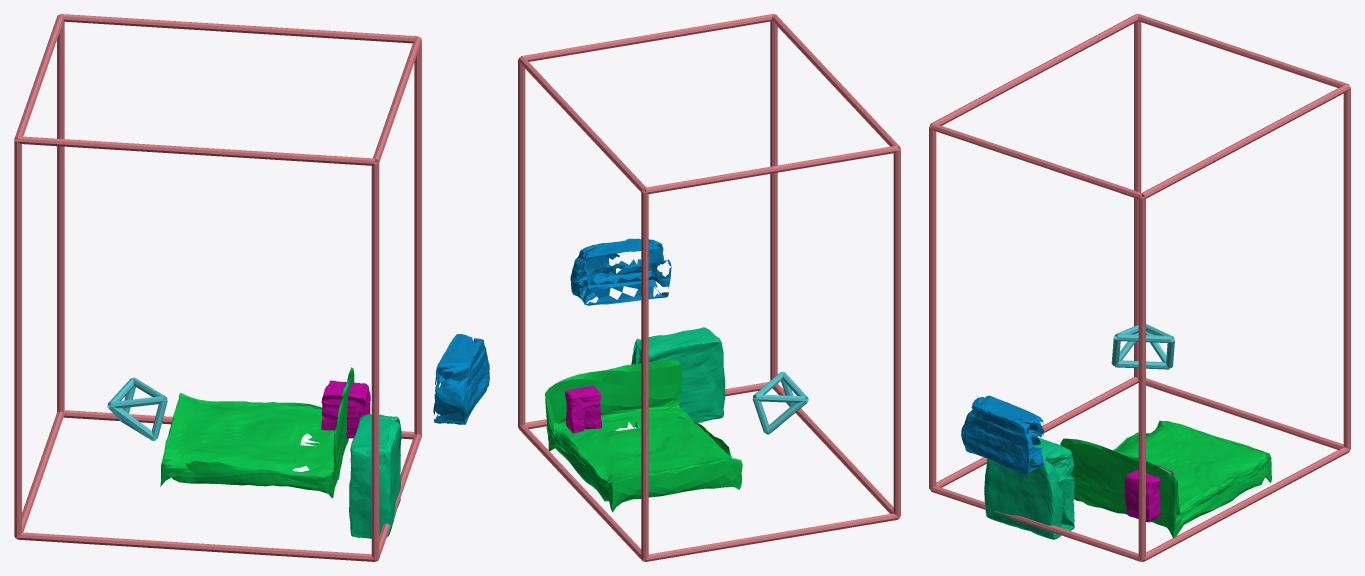
The picture shows the model from 3 angles, left to right: view 1: azimuth 30°, elevation 25°; view 2: azimuth 150°, elevation 25°; view 3: azimuth 270°, elevation 25°; orthographic projection. The views are drawn at different scales.
Visible parts, largest first — view 1: world; view 2: world; view 3: world.
Part boxes in pixels (box(x1,y1,x2,y2)): world: box(14, 14, 489, 561); world: box(518, 14, 900, 561); world: box(929, 14, 1350, 561).
Bounding box in the file's own units: 6.01 × 5.72 × 5.78.
